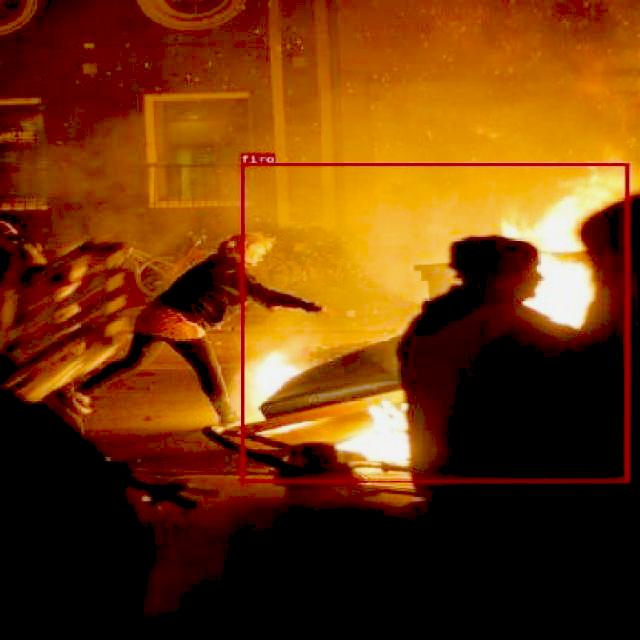fire: (240, 163, 628, 482)
